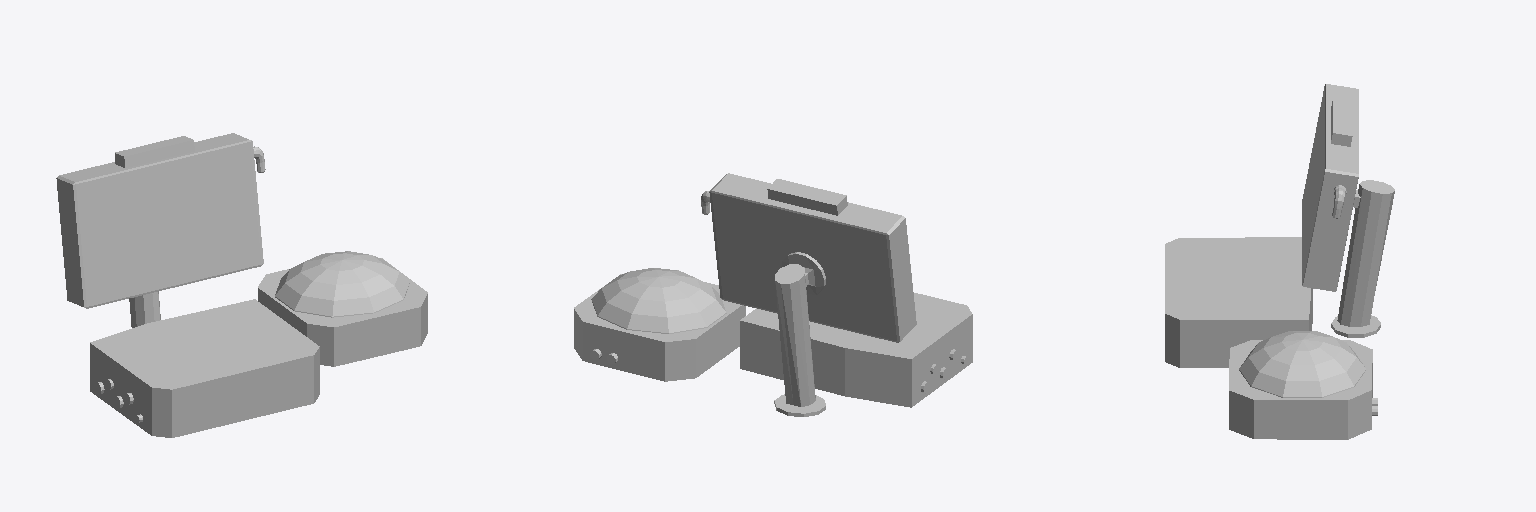
Rendered from HackNodeProxy.obj.
3 views of the same model, side by side, from view 1: azimuth 30°, elevation 25°; view 2: azimuth 150°, elevation 25°; view 3: azimuth 270°, elevation 25° (orthographic).
Parts seen in each view (by area): view 1: Cube; view 2: Cube; view 3: Cube.
Part boxes in pixels (x1,y1,x2,y2): Cube: (56, 133, 427, 437); Cube: (574, 173, 972, 416); Cube: (1165, 84, 1394, 439).
Bounding box in the file's own units: 1.11 × 0.6961 × 0.689.